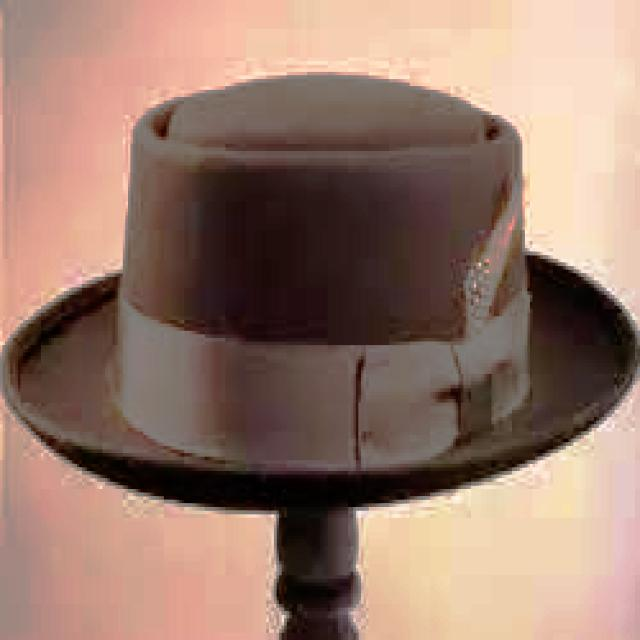TOPI: (0, 68, 637, 514)
